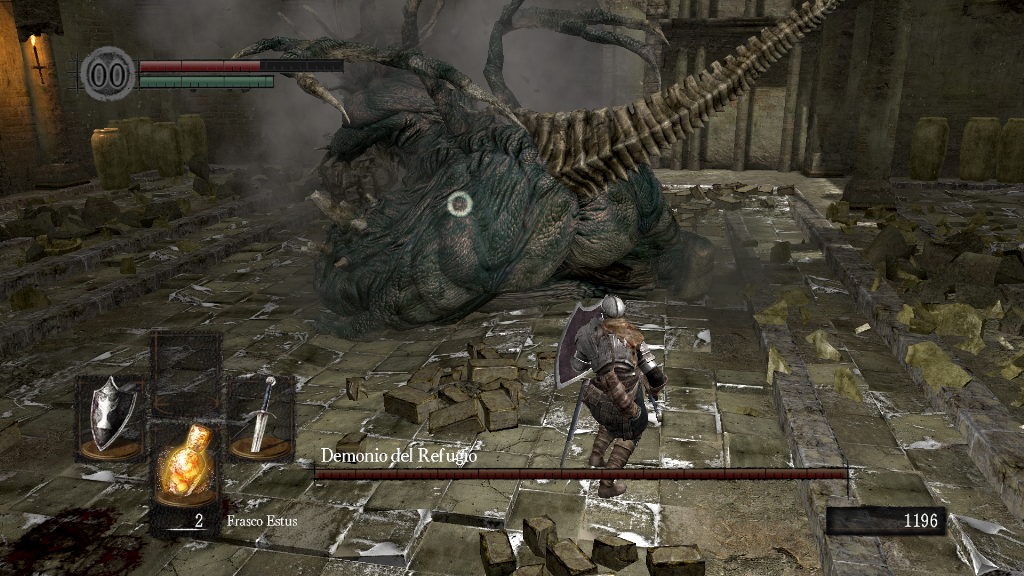asylumDemon: (228, 1, 855, 338)
bossHP: (314, 469, 847, 479)
health: (138, 58, 343, 71)
humanity: (80, 45, 136, 102)
player: (556, 294, 668, 502)
souls: (825, 506, 945, 536)
stamina: (138, 74, 274, 88)
